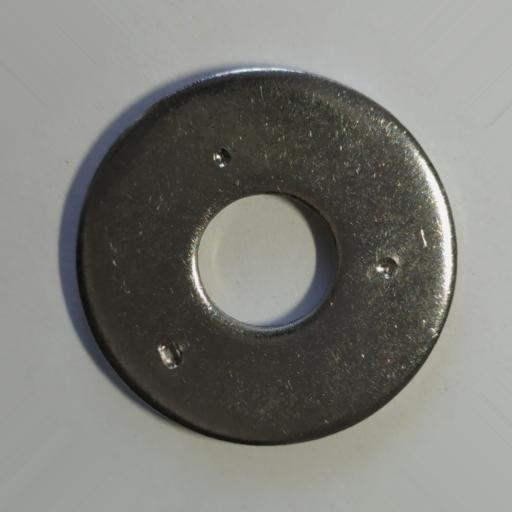circular_cavity: (157, 340, 185, 369), (376, 256, 398, 277), (213, 147, 232, 167)
